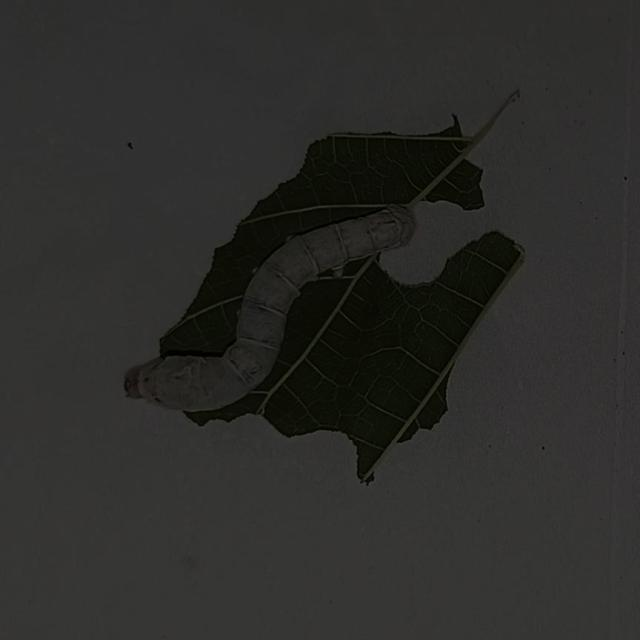Healthy: (108, 200, 430, 419)
